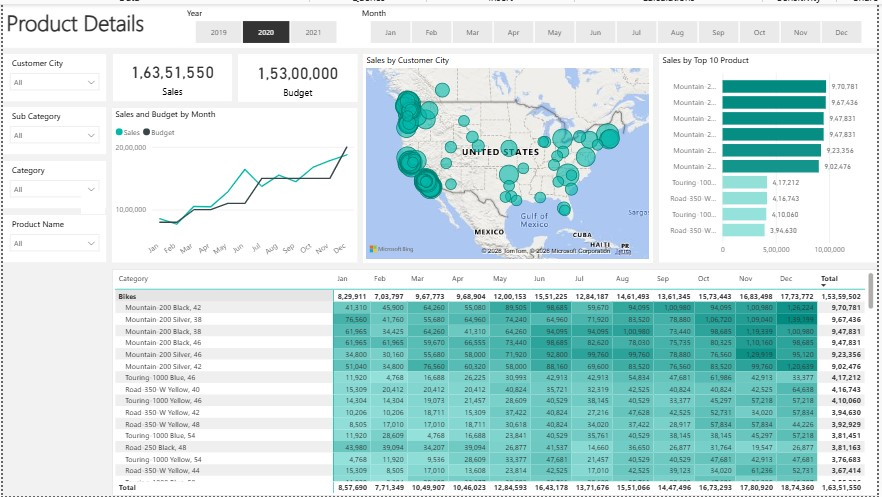

What the dashboard file says about the page in this screenshot:
{"tool":"powerbi","page":{"name":"Product Details","canvas":[1280,720],"ordinal":2},"visuals":[{"type":"textbox","box":[0,0,1280,64],"z":0},{"type":"slicer","fields":{"Values":["DIM_Calendar.Year"]},"box":[256,0,256,64],"z":1000},{"type":"slicer","fields":{"Values":["DIM_Calendar.MonthShort"]},"box":[512,0,768,64],"z":2000},{"type":"slicer","fields":{"Values":["DIM_Customers.Customer City"]},"box":[0,73,150.5,69.3],"z":3000},{"type":"slicer","fields":{"Values":["DIM_Products.Product Category"]},"box":[0,229.9,150.5,69.3],"z":4000},{"type":"slicer","fields":{"Values":["DIM_Products.Product Name"]},"box":[0,308.4,150.5,69.3],"z":5000},{"type":"slicer","fields":{"Values":["DIM_Products.Sub Category"]},"box":[0,151.4,150.5,69.3],"z":6000},{"type":"lineChart","fields":{"Category":["DIM_Calendar.MonthShort"],"Y":["Analysis Metrics.Sales","Analysis Metrics.Budget"]},"box":[159.8,151.8,358.7,226.4],"z":7000},{"type":"card","fields":{"Values":["Analysis Metrics.Sales"]},"box":[160.7,72.8,174,69.2],"z":8000},{"type":"map","fields":{"Category":["DIM_Customers.Customer City"],"Size":["Analysis Metrics.Sales"]},"box":[527.3,72.8,423.5,304.5],"z":9000},{"type":"card","fields":{"Values":["Analysis Metrics.Budget"]},"box":[343.6,72.8,174.9,70.1],"z":10000},{"type":"pivotTable","fields":{"Rows":["DIM_Products.Product Category","DIM_Products.Product Name"],"Columns":["DIM_Calendar.MonthShort"],"Values":["Analysis Metrics.Sales"]},"box":[159.8,387.1,1120.4,332.9],"z":11000},{"type":"clusteredBarChart","title":"Sales by Top 10 Product","fields":{"Category":["DIM_Products.Product Name"],"Y":["Analysis Metrics.Sales"]},"box":[959.7,72.8,320.5,304.5],"z":12000}]}

Visuals, with their boxes in screenshot pixels (x1, y1, x2, y2), scaled from the page's 1280x720 canvas onto the 882x497 screenshot:
textbox: BBox(0, 0, 881, 44)
slicer - DIM_Calendar.Year: BBox(176, 0, 353, 44)
slicer - DIM_Calendar.MonthShort: BBox(353, 0, 881, 44)
slicer - DIM_Customers.Customer City: BBox(0, 50, 104, 98)
slicer - DIM_Products.Product Category: BBox(0, 159, 104, 207)
slicer - DIM_Products.Product Name: BBox(0, 213, 104, 261)
slicer - DIM_Products.Sub Category: BBox(0, 105, 104, 152)
lineChart - DIM_Calendar.MonthShort x Analysis Metrics.Sales: BBox(110, 105, 357, 261)
card - Analysis Metrics.Sales: BBox(111, 50, 231, 98)
map - DIM_Customers.Customer City x Analysis Metrics.Sales: BBox(363, 50, 655, 260)
card - Analysis Metrics.Budget: BBox(237, 50, 357, 99)
pivotTable - DIM_Products.Product Category x DIM_Products.Product Name: BBox(110, 267, 881, 496)
"Sales by Top 10 Product" clusteredBarChart: BBox(661, 50, 881, 260)
